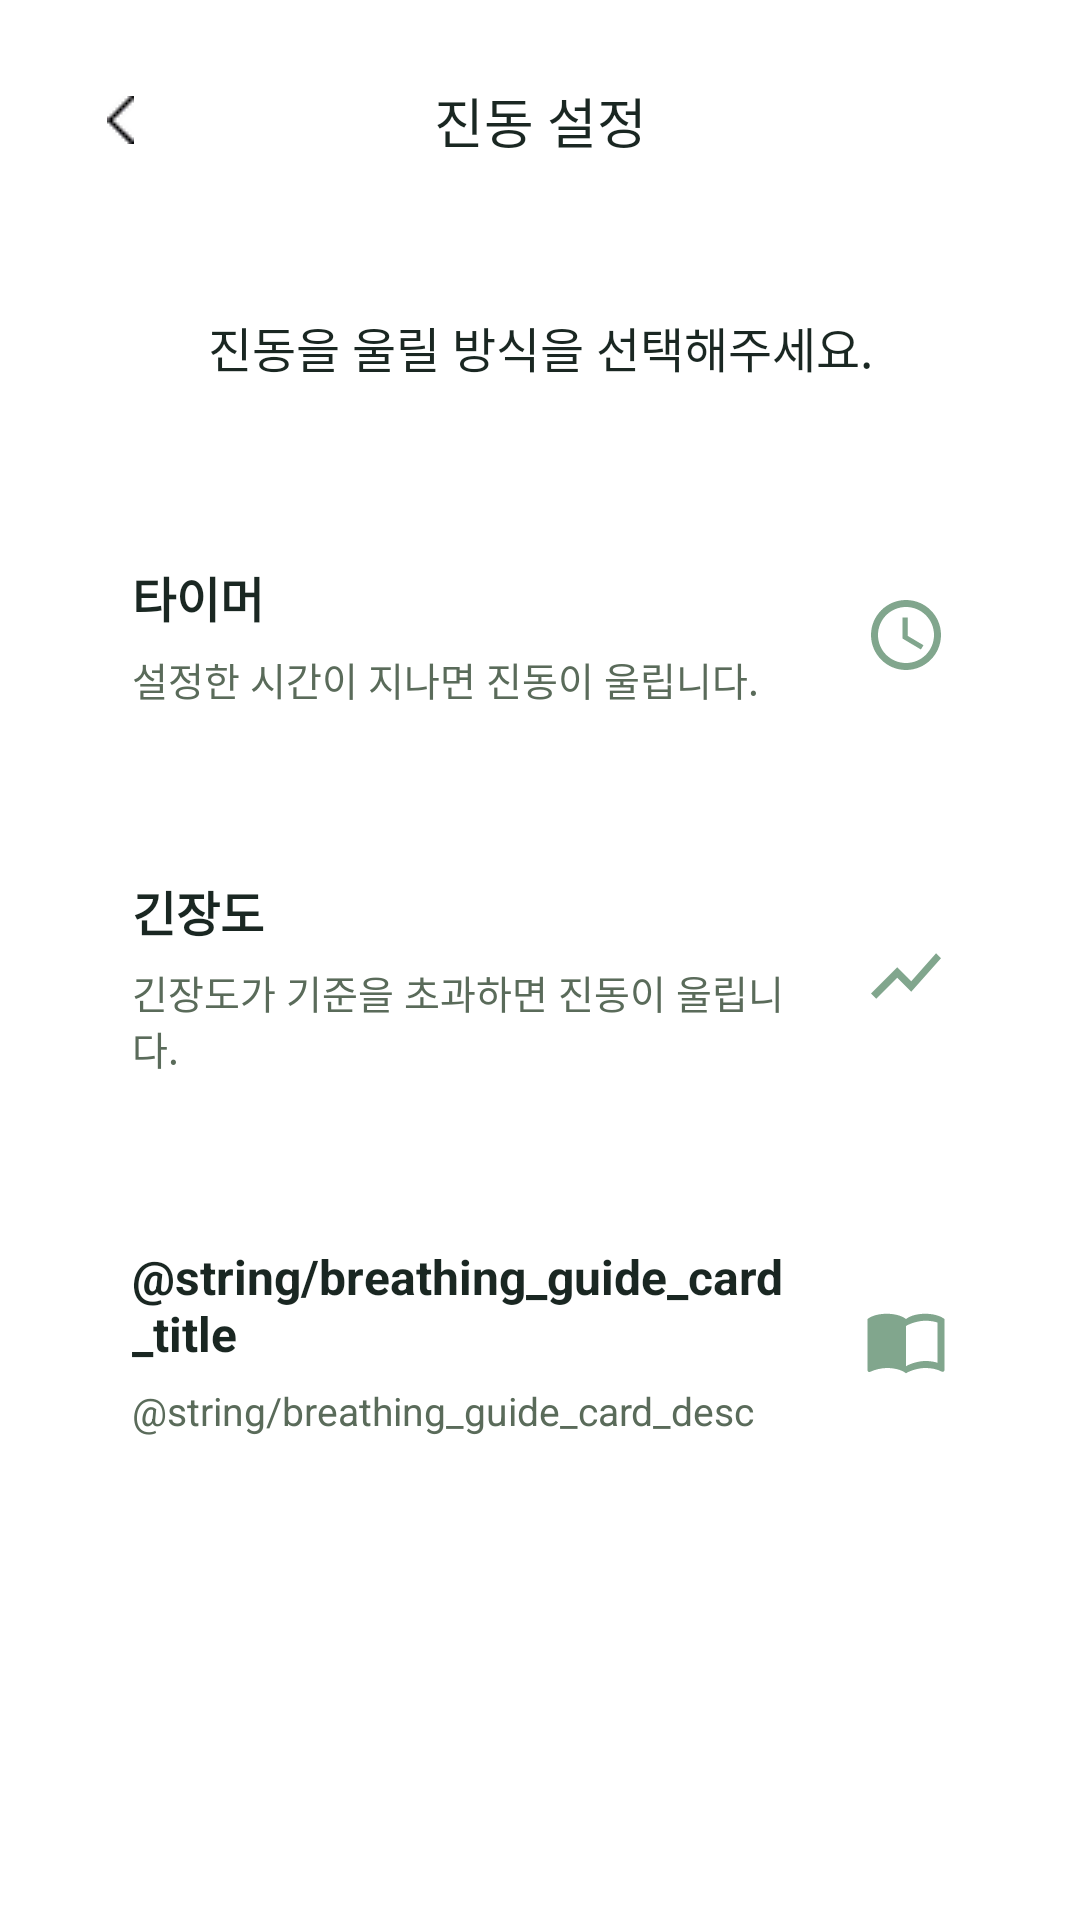

Screen size 1080×1920. Icon name, then its center in pixels as [x,y]:
back: [120,120]
settings guide: [906,1343]
timer: [906,635]
